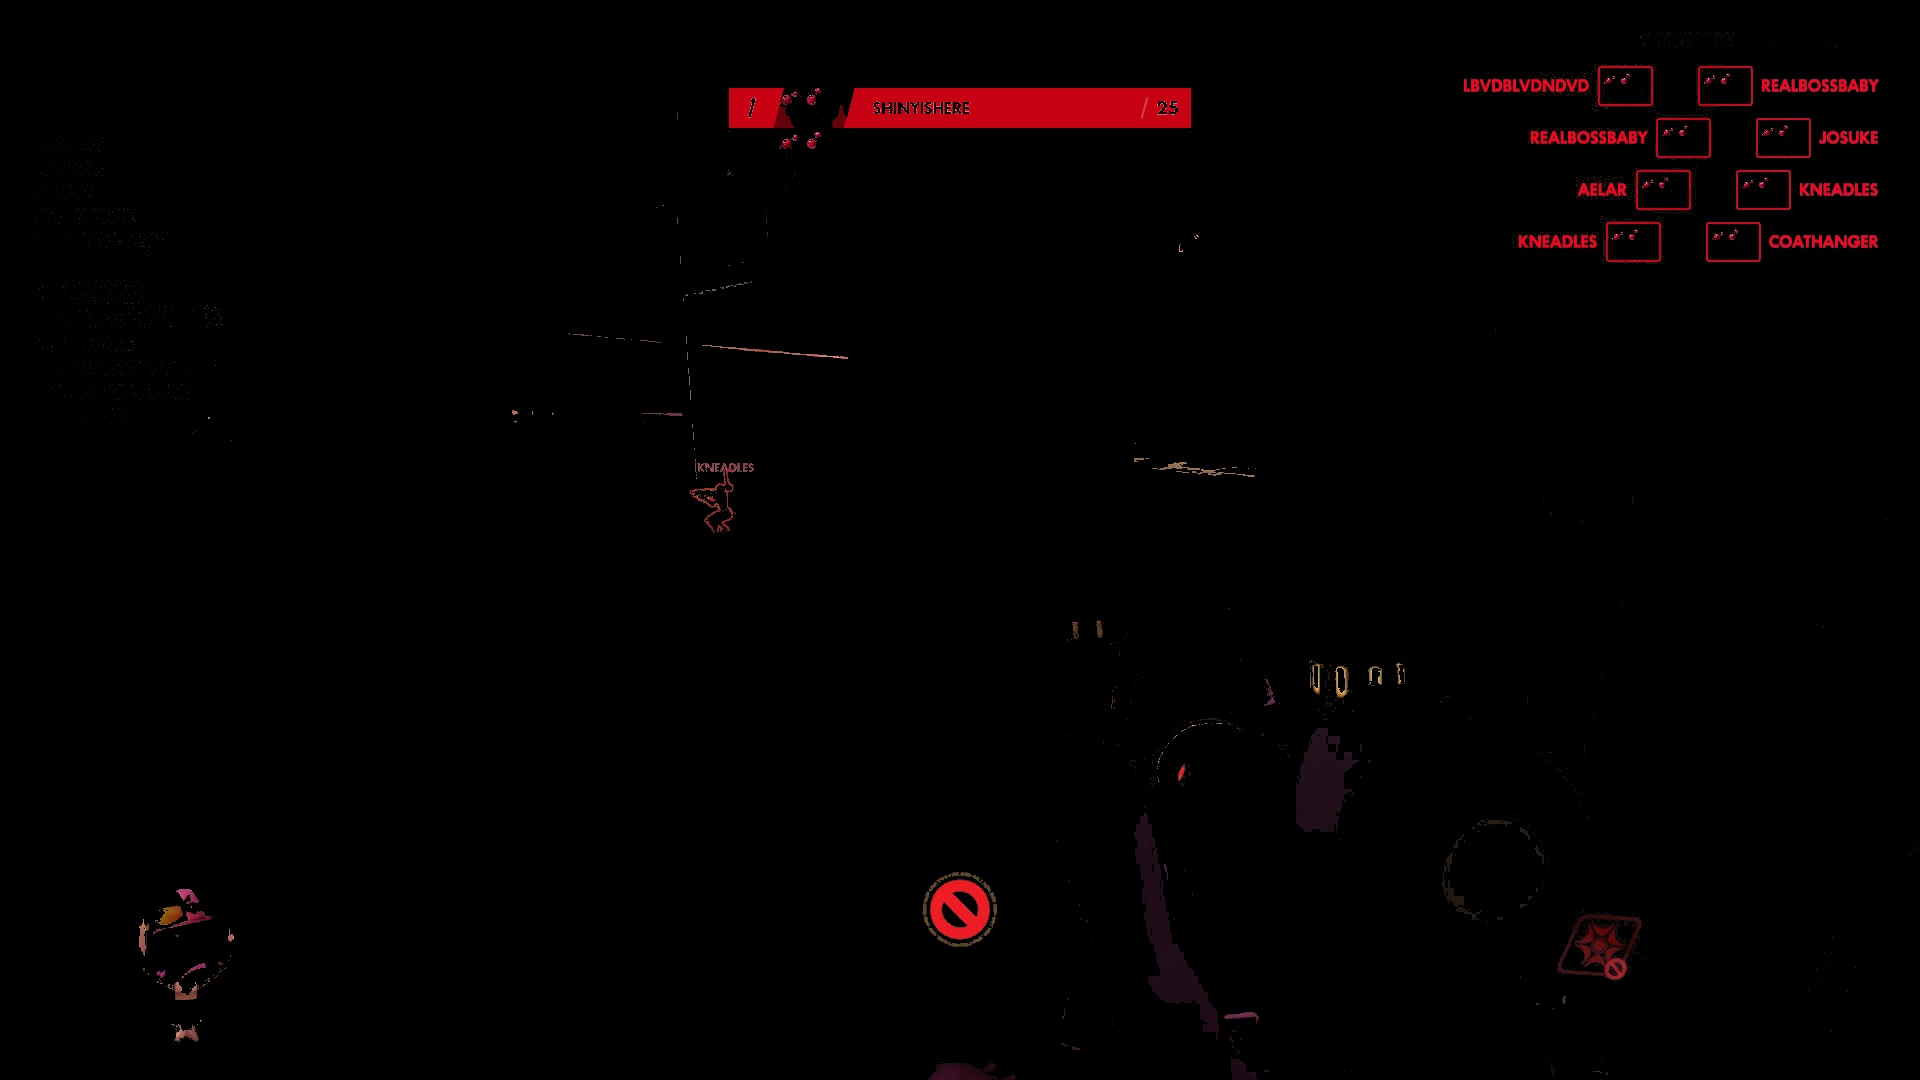widowmaker: (702, 483, 735, 537)
